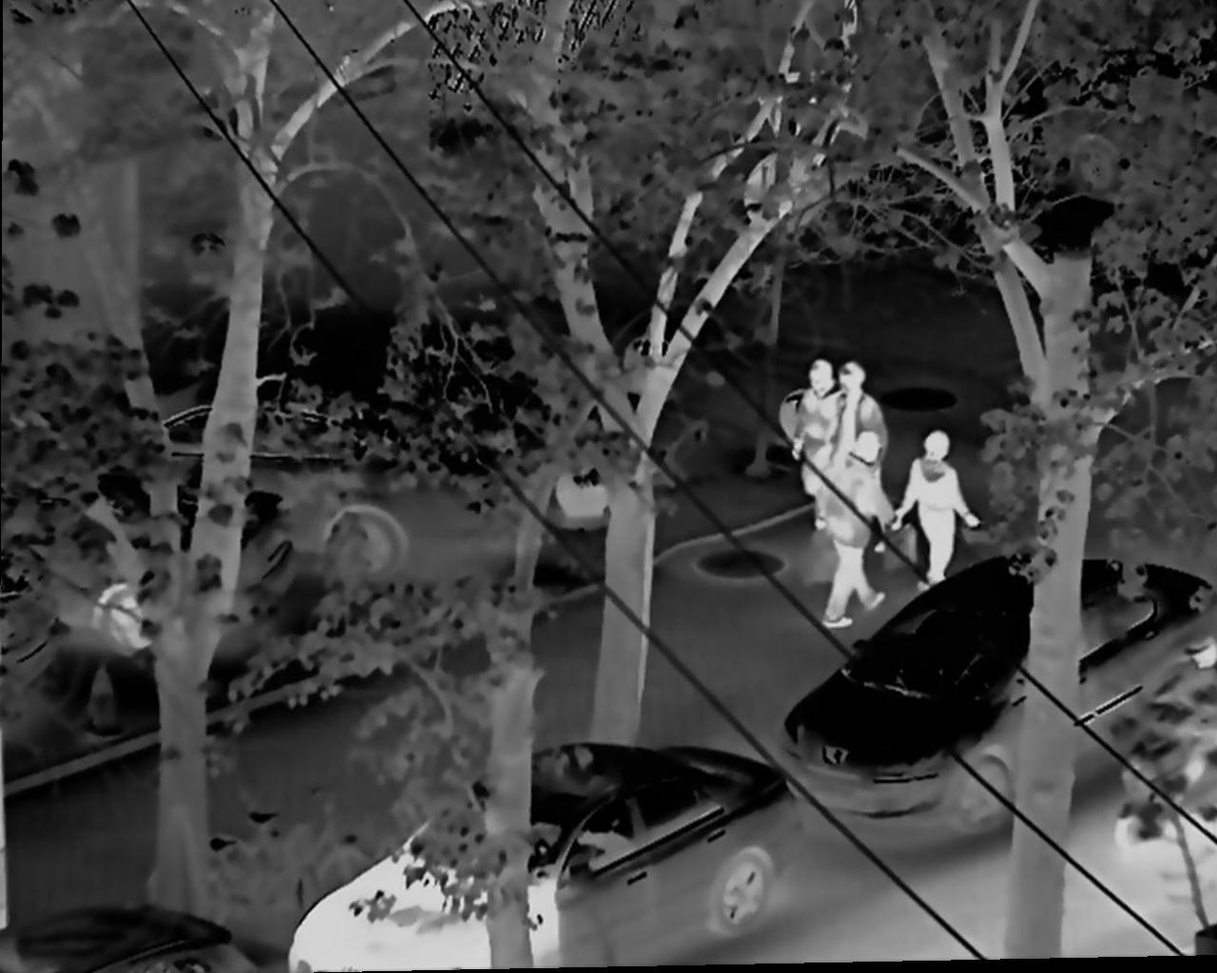person: (896, 432, 977, 582), (829, 433, 888, 629), (835, 364, 895, 536), (789, 352, 841, 535)
